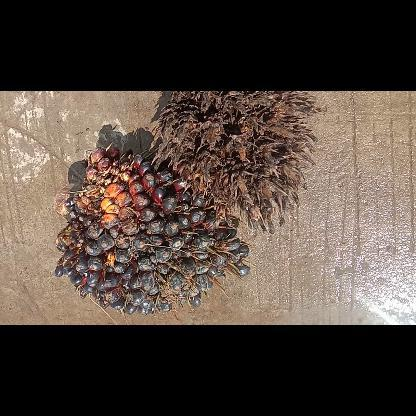Janjang kosong: (149, 91, 317, 233)
TBS mentah: (54, 142, 256, 324)
